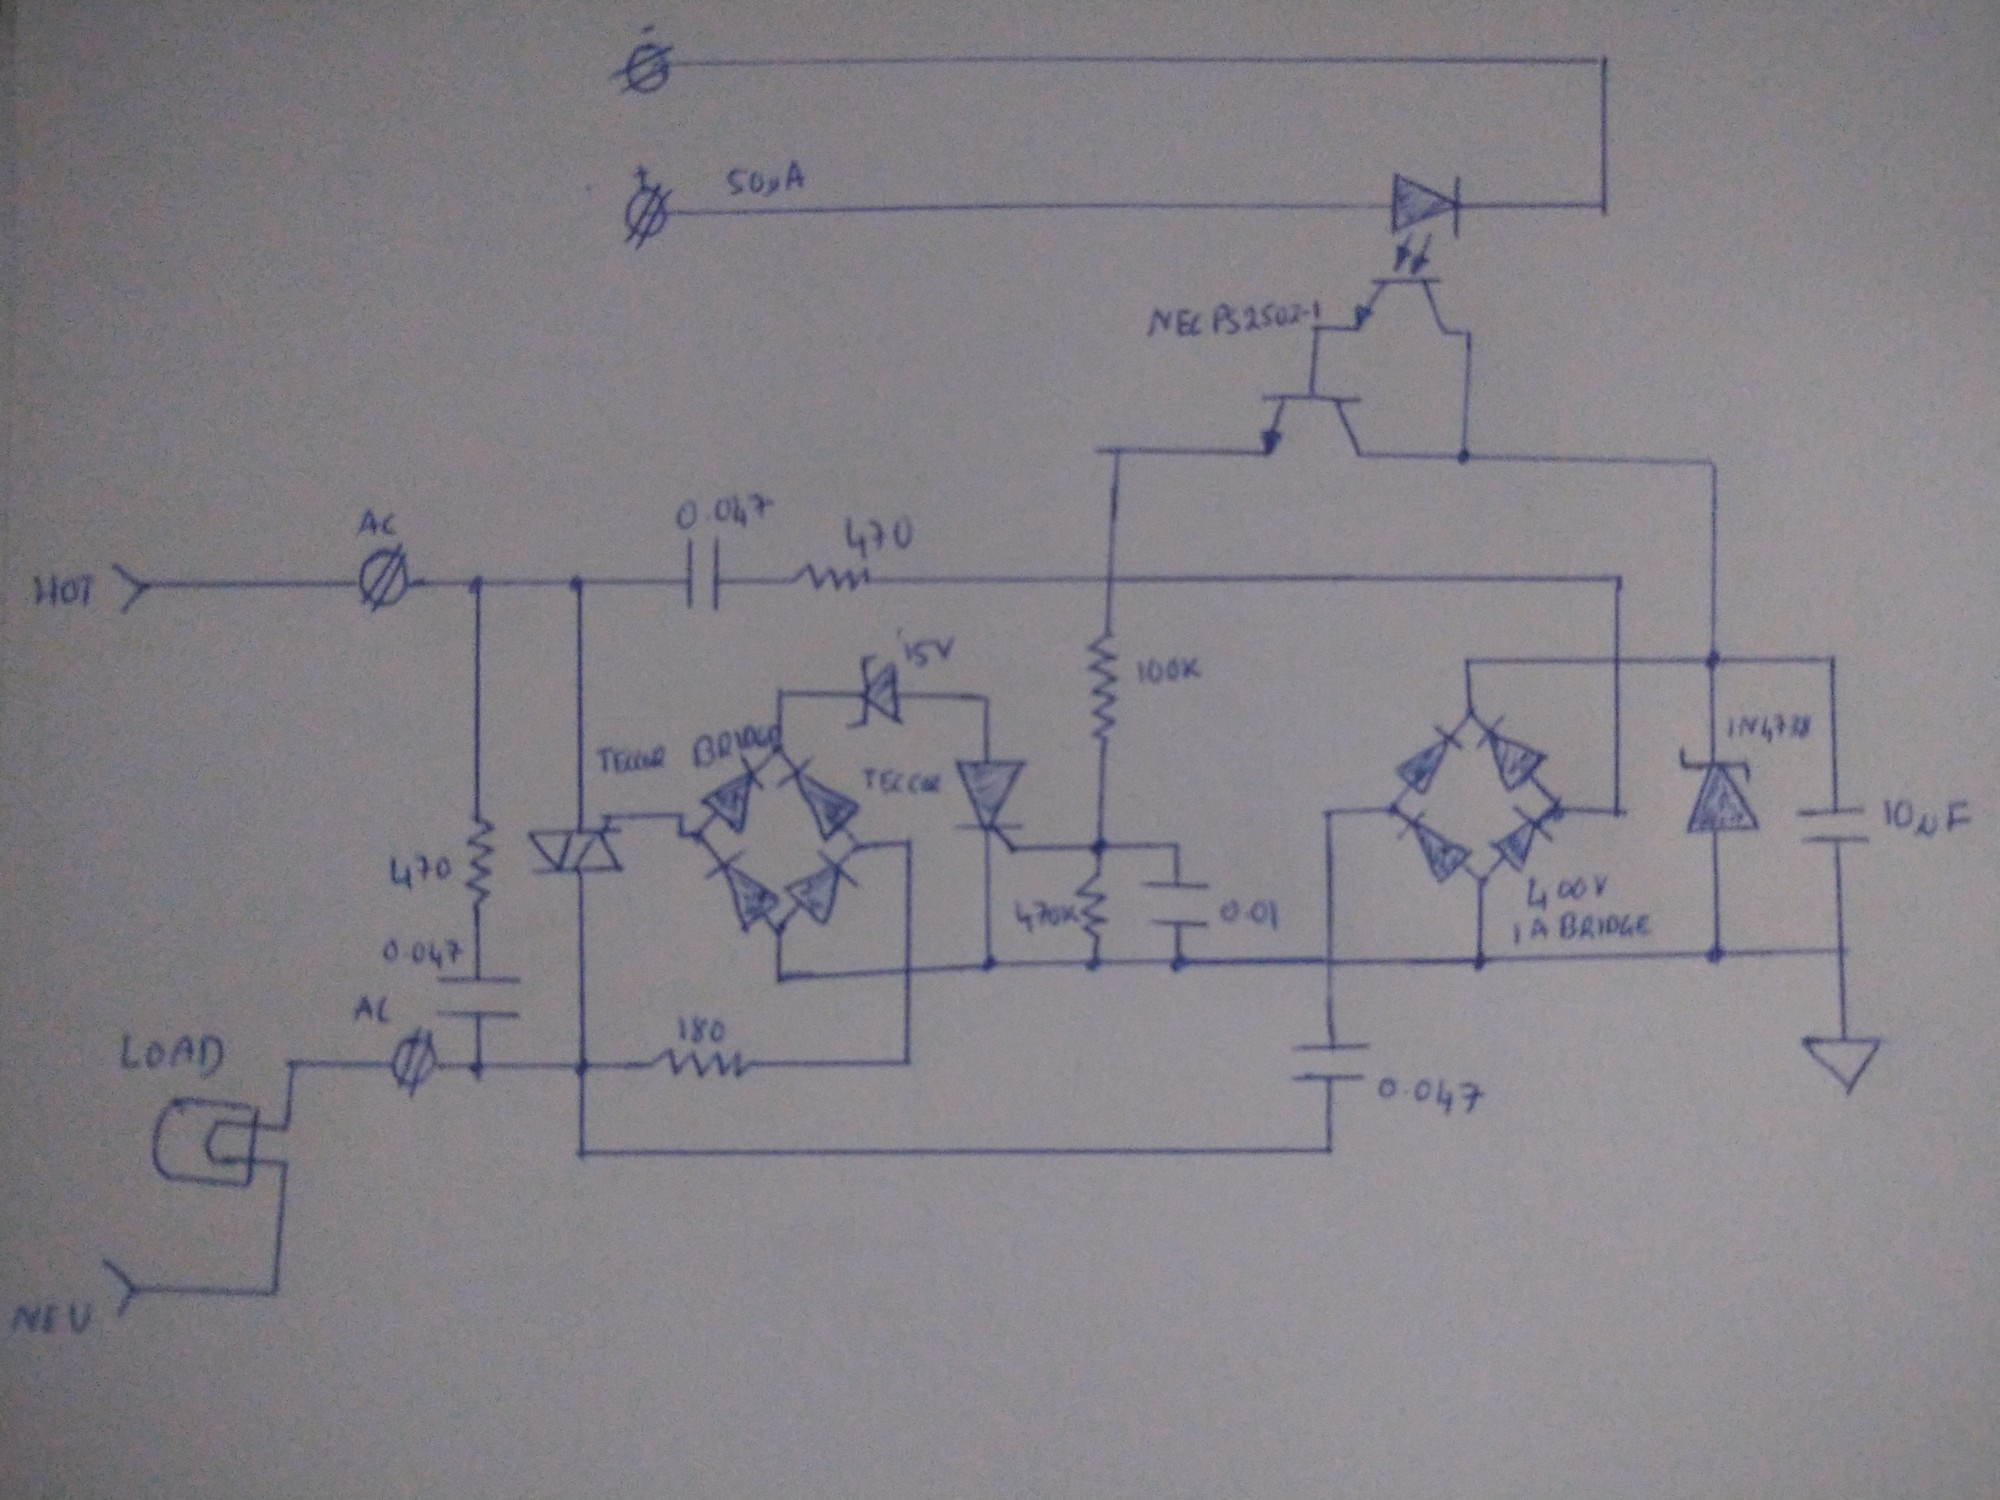capacitor.unpolarized: (436, 971, 523, 1024), (1142, 871, 1213, 936), (1795, 799, 1872, 854), (1291, 1037, 1370, 1090), (679, 536, 731, 611)
crossover: (1098, 567, 1121, 589), (1320, 952, 1339, 971), (898, 960, 917, 978), (1609, 651, 1627, 668)
diode: (1677, 745, 1764, 835), (776, 756, 860, 840), (702, 851, 778, 933), (1398, 810, 1472, 886), (784, 849, 857, 923), (841, 652, 907, 733), (1476, 718, 1546, 793), (1394, 723, 1465, 796), (701, 756, 764, 834), (1490, 807, 1554, 871)
gnd: (1798, 1034, 1883, 1097)
junction: (1543, 793, 1569, 819), (1702, 651, 1723, 673), (1704, 945, 1728, 964), (469, 1057, 490, 1078), (572, 1056, 594, 1075), (1083, 955, 1106, 974), (1169, 952, 1187, 974), (468, 574, 487, 596), (1455, 446, 1472, 468), (1702, 454, 1721, 473), (847, 837, 866, 856), (1472, 871, 1491, 890), (1461, 704, 1480, 723), (569, 574, 587, 592), (1472, 952, 1490, 972), (1090, 838, 1110, 856), (1595, 197, 1613, 217), (769, 923, 787, 941), (899, 834, 917, 852), (980, 955, 998, 972), (1591, 50, 1609, 68), (1609, 570, 1627, 588), (265, 1284, 282, 1301), (1384, 800, 1402, 818), (976, 690, 995, 706), (1608, 804, 1625, 819), (1320, 1141, 1335, 1158), (898, 1053, 913, 1070), (575, 1145, 591, 1161), (1833, 942, 1850, 956), (276, 1155, 293, 1169), (770, 744, 787, 758), (773, 685, 787, 703), (1320, 807, 1337, 821), (1107, 444, 1123, 459), (1824, 652, 1839, 666), (287, 1056, 302, 1070), (772, 971, 787, 985), (276, 1120, 293, 1133), (1461, 328, 1476, 342), (1461, 652, 1476, 666), (694, 826, 707, 841), (1309, 321, 1321, 336), (672, 808, 687, 821), (1172, 838, 1184, 852), (677, 826, 688, 841)
lamp: (150, 1097, 261, 1190)
optocoupler: (1351, 172, 1461, 339)
resistor: (649, 1046, 756, 1082), (1087, 630, 1120, 744), (465, 815, 498, 906), (791, 561, 872, 592), (1076, 873, 1112, 939)
terminal: (622, 184, 672, 251), (611, 43, 672, 95), (102, 558, 154, 619), (101, 1259, 140, 1316)
text: (1145, 299, 1321, 340), (1509, 911, 1652, 949), (117, 1030, 227, 1079), (1376, 1076, 1485, 1116), (676, 492, 773, 529), (694, 723, 780, 766), (1883, 797, 1972, 838), (841, 515, 917, 558), (1524, 874, 1606, 911), (9, 1301, 91, 1338), (728, 161, 805, 197), (1724, 714, 1811, 745), (380, 936, 461, 967), (863, 766, 942, 797), (387, 854, 454, 890), (33, 570, 96, 607), (1216, 898, 1279, 933), (1134, 655, 1200, 687), (595, 745, 668, 774), (1016, 900, 1077, 933), (901, 637, 954, 668), (677, 1015, 728, 1045), (354, 507, 398, 537), (350, 994, 392, 1023)
thyristor: (953, 756, 1027, 854)
transistor: (1258, 391, 1367, 462)
triac: (524, 805, 627, 878)
